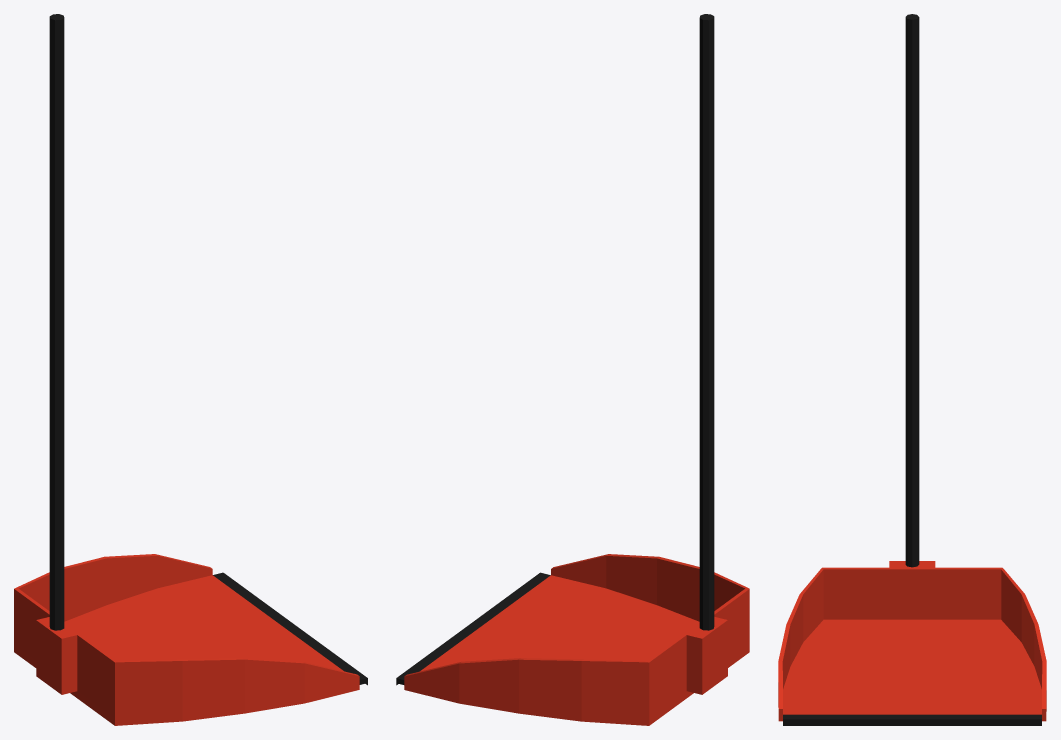
File: Recogedor.fbx
3 views of the same model, side by side, from view 1: azimuth 30°, elevation 25°; view 2: azimuth 150°, elevation 25°; view 3: azimuth 270°, elevation 25° (orthographic). The views are drawn at different scales.
Parts seen in each view (by area): view 1: Cube.024, Cylinder.003; view 2: Cube.024, Cylinder.003; view 3: Cube.024, Cylinder.003.
Boxes of the visible parts, x1,y1,x2,y2 form: Cube.024: (14, 554, 367, 725); Cylinder.003: (49, 14, 64, 630); Cube.024: (396, 554, 749, 725); Cylinder.003: (699, 14, 714, 630); Cube.024: (778, 561, 1046, 725); Cylinder.003: (905, 14, 919, 567).
Size of the model in its own units: 2213 by 5774 by 2322.
